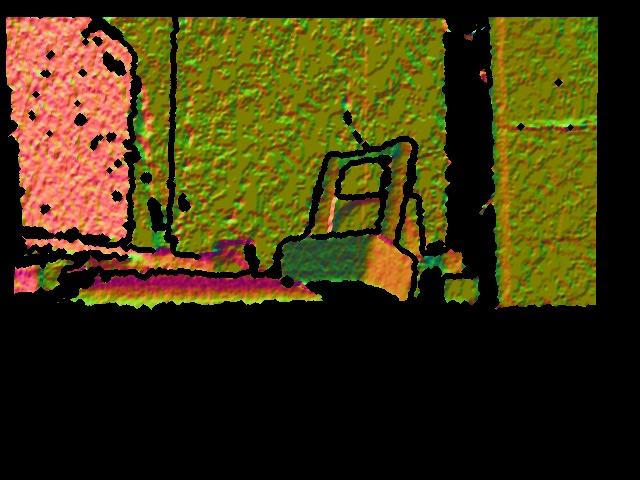station: (279, 137, 420, 300)
